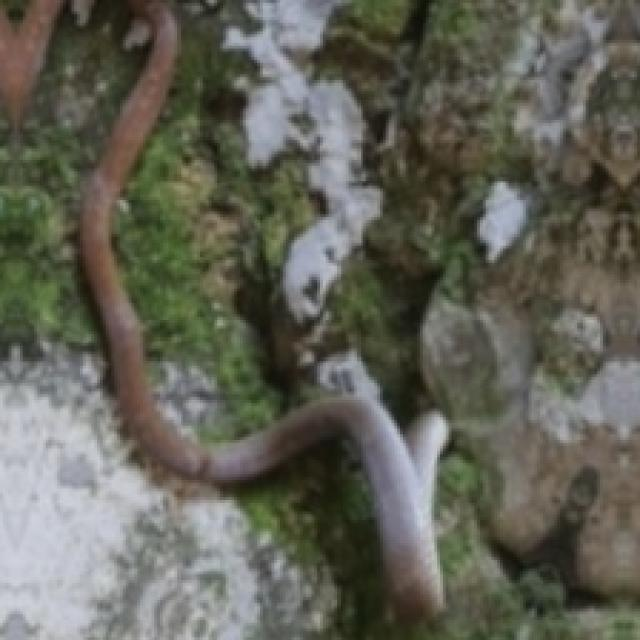reddish rat snake: (77, 0, 446, 617), (80, 0, 446, 617), (0, 0, 63, 129)
